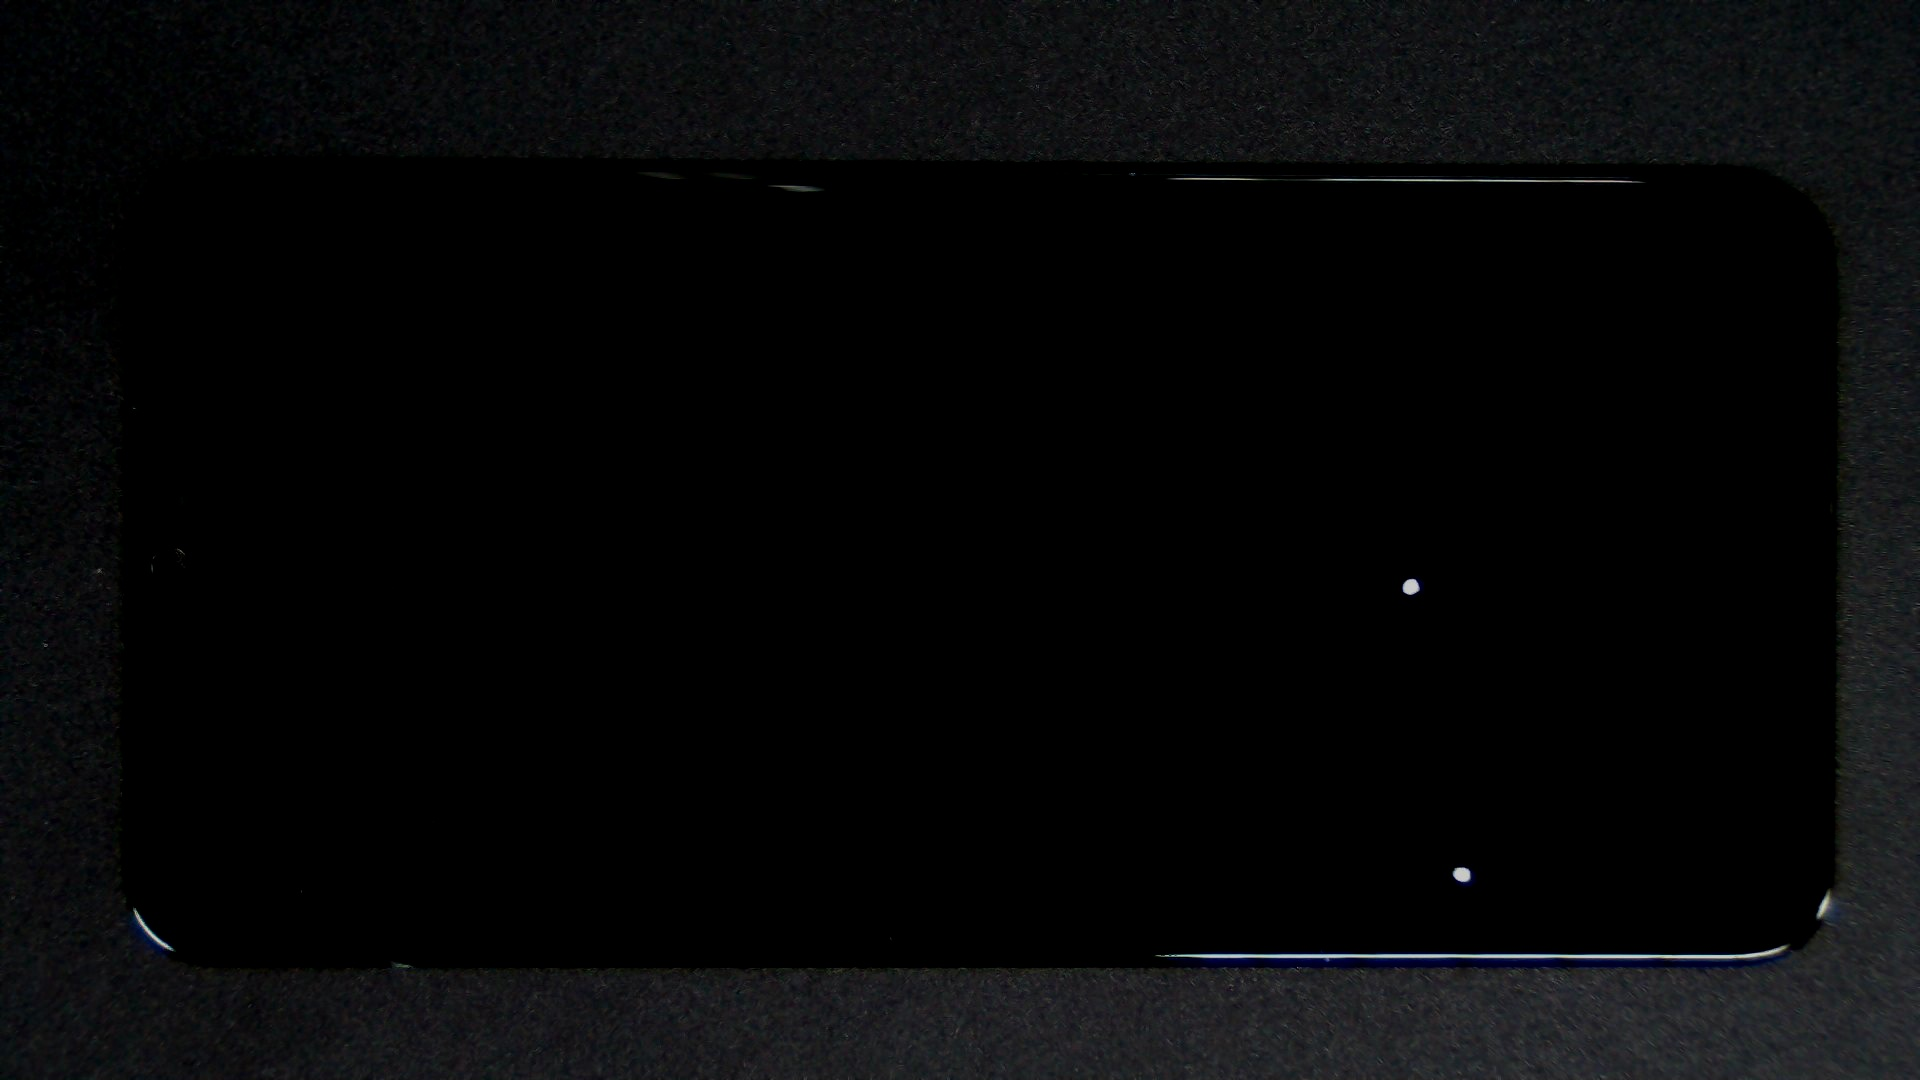oil: (728, 433, 1920, 1080), (707, 287, 1920, 866)
